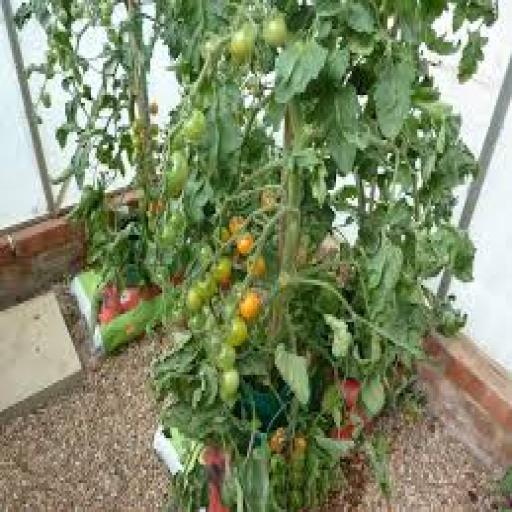tomato: (167, 151, 189, 197), (230, 24, 255, 63), (182, 109, 207, 142), (263, 14, 288, 47), (163, 212, 185, 245), (240, 291, 262, 321), (341, 378, 361, 411), (228, 317, 249, 348), (220, 367, 239, 401), (216, 344, 237, 372), (103, 286, 122, 314), (214, 256, 233, 282), (206, 333, 223, 361), (186, 288, 203, 314), (121, 288, 140, 311), (269, 428, 286, 453), (331, 423, 355, 440), (248, 256, 266, 277), (202, 275, 217, 300), (238, 235, 255, 255), (99, 307, 118, 324), (261, 191, 276, 211), (202, 40, 217, 58), (200, 246, 213, 266), (293, 436, 308, 453), (230, 217, 245, 234), (220, 227, 231, 242), (151, 125, 160, 137), (151, 101, 158, 116)
